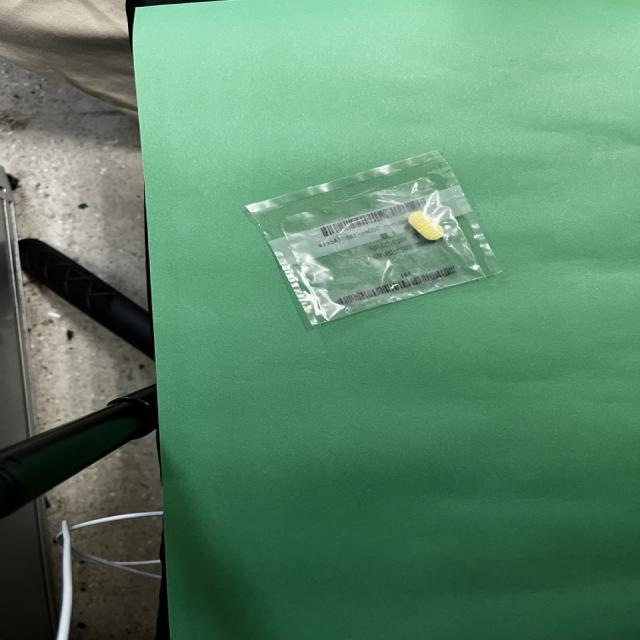Other Objects: (246, 152, 499, 324)
